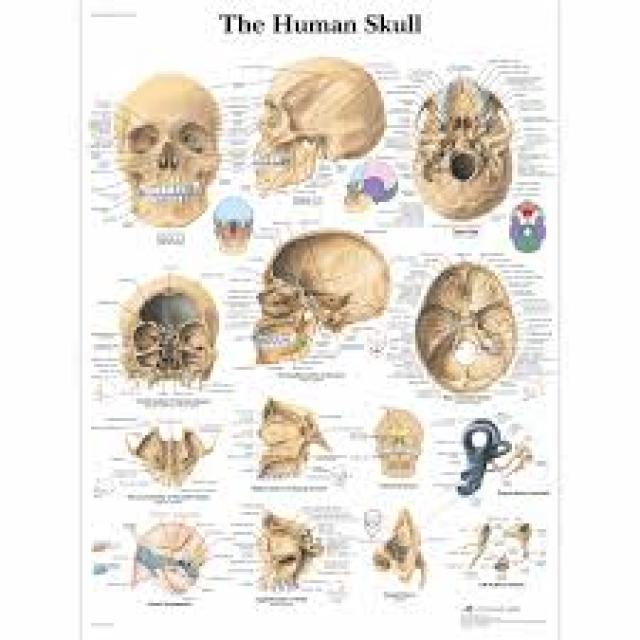skull: (246, 50, 384, 210)
